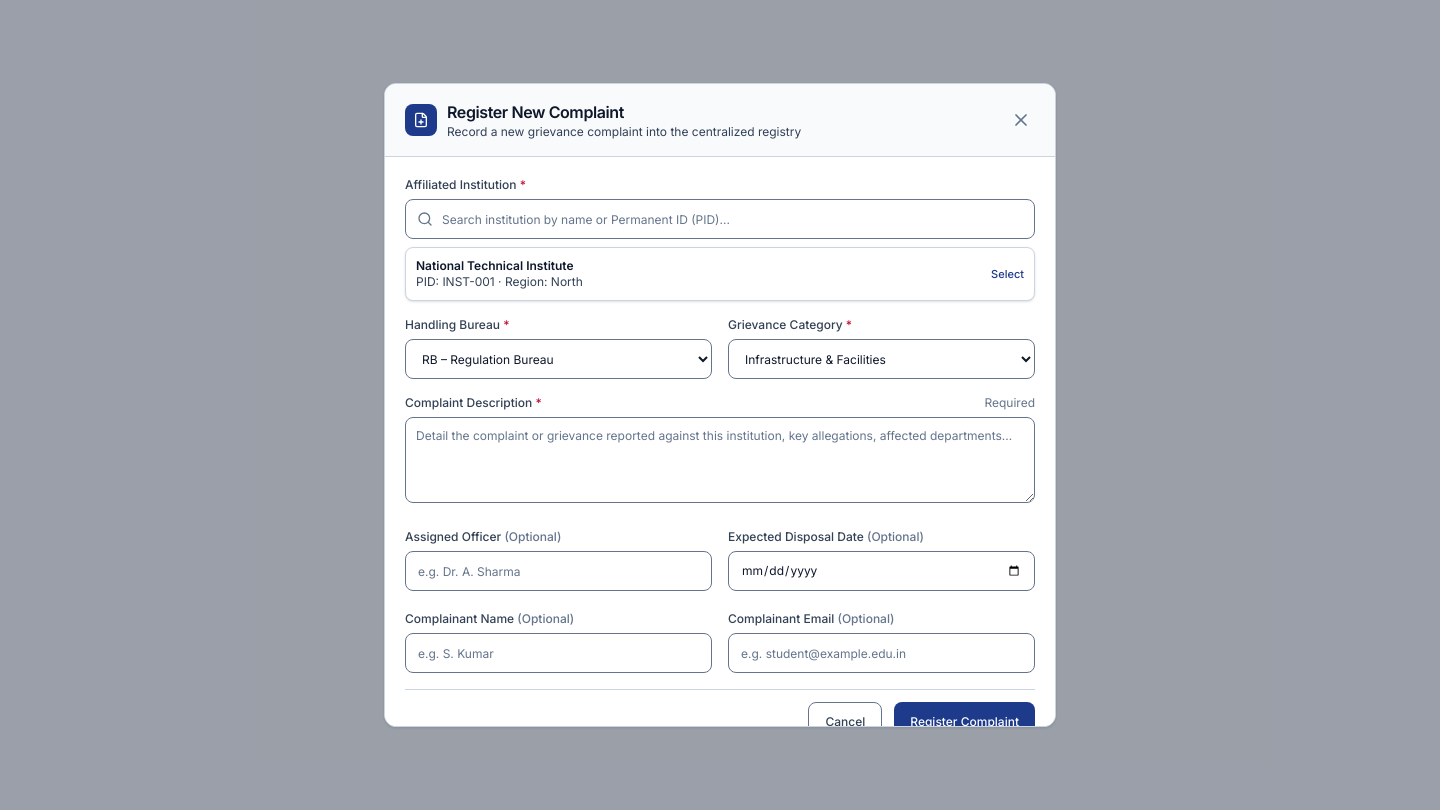
it: NewComplaintModal UX & Overlap Decoupling › 3b. Results-fetch failure keeps the saved confirmation intact
Click the text "National Technical Institute" at (499, 266), box left=416, top=258, right=583, bottom=274
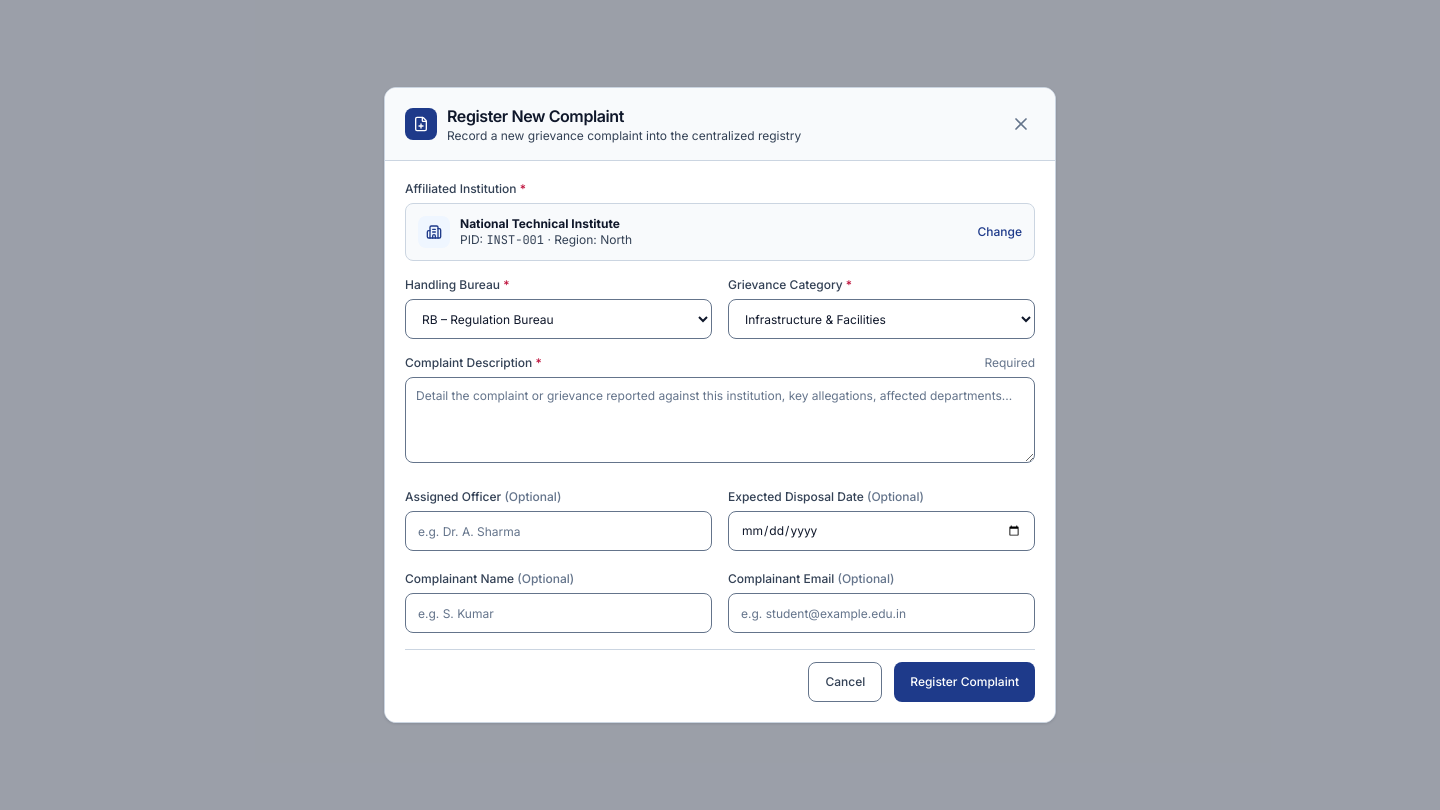
Replace the text in the text box labelled "Complaint Description *" with "Water leakage in main academic lab block" at (720, 420), box left=405, top=377, right=1035, bottom=463
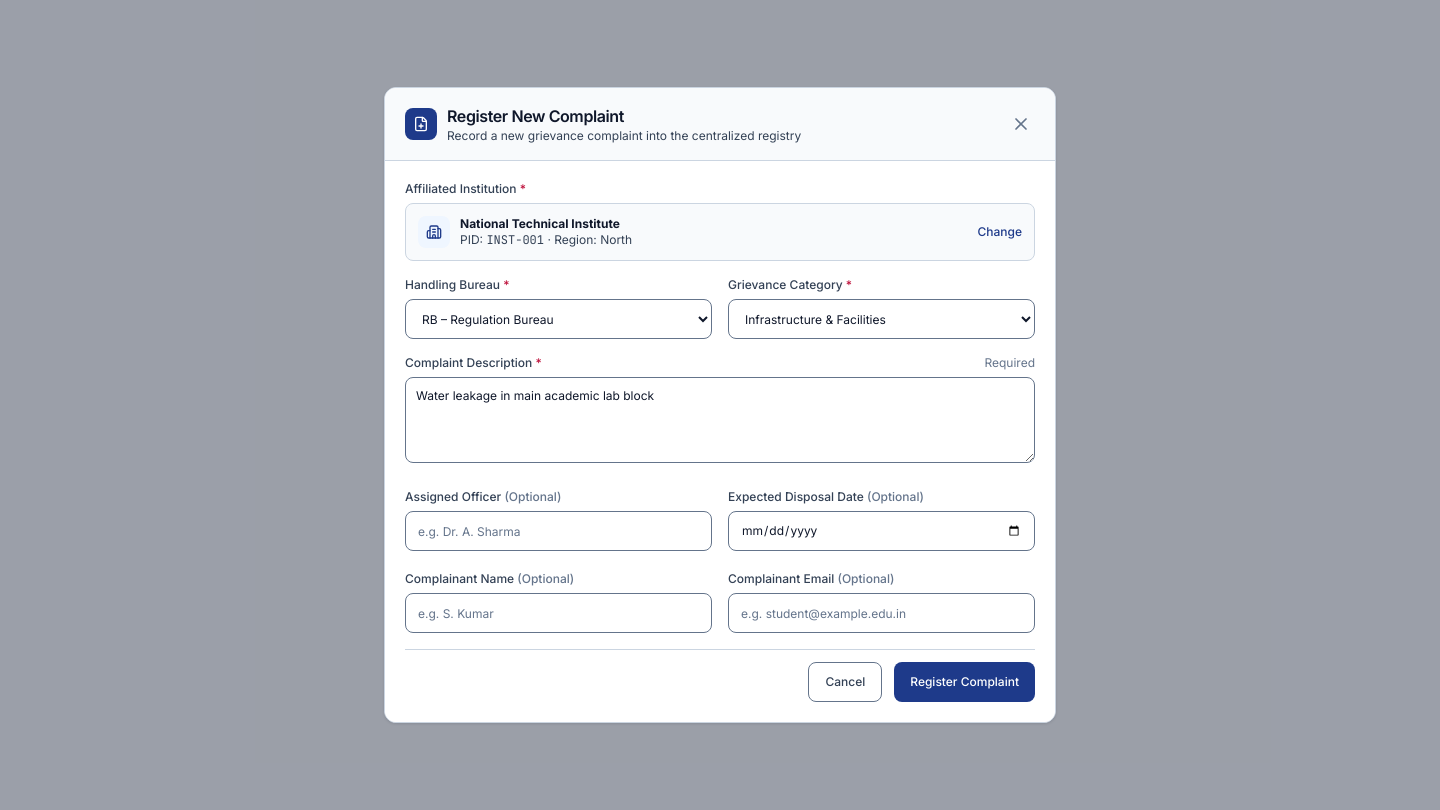
Click the button "Register Complaint" at (965, 682), box left=894, top=662, right=1035, bottom=702
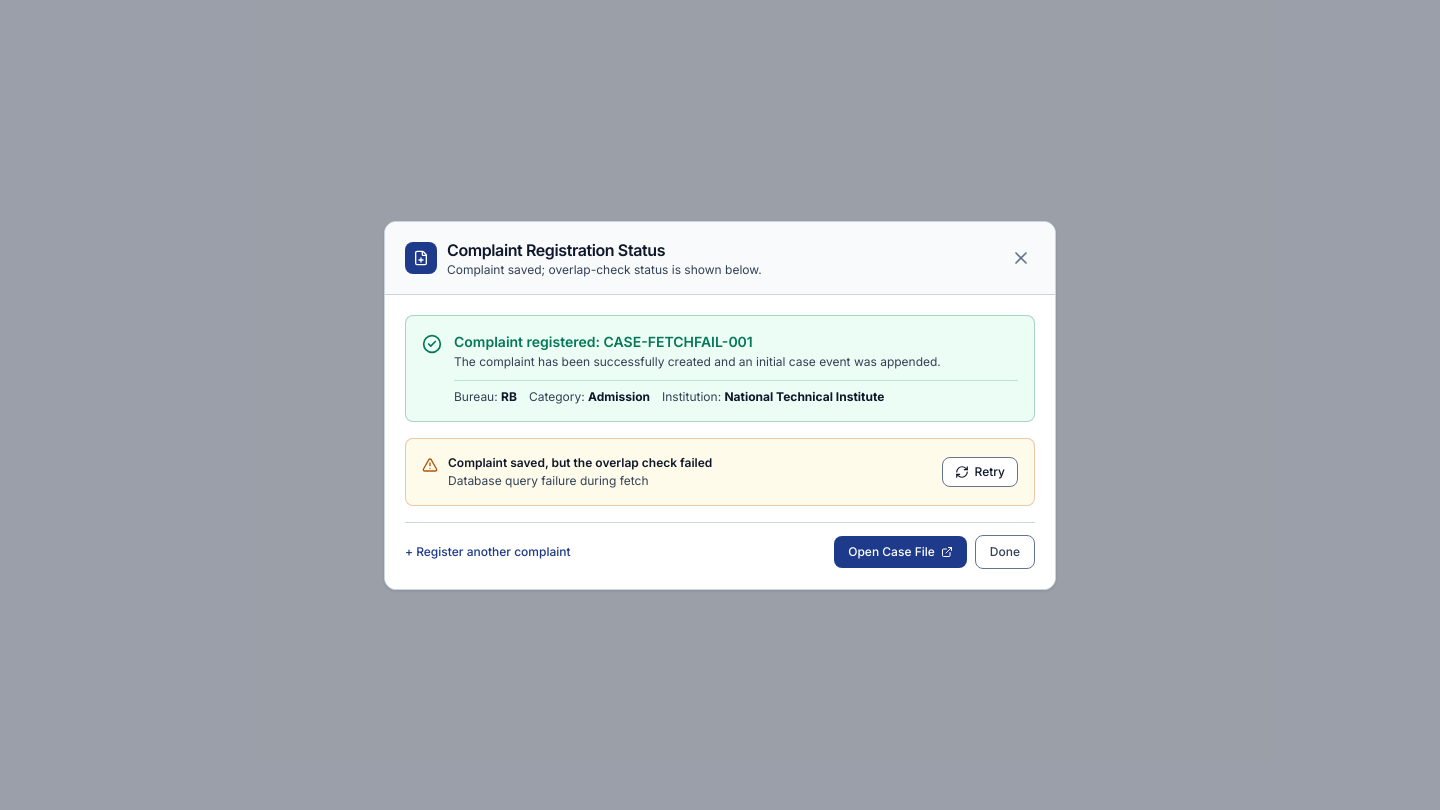
Check: the heading "Complaint registered: CASE-FETCHFAIL-001" is shown, box left=454, top=332, right=753, bottom=350
Check: the text "Complaint saved, but the overlap check failed" is shown, box left=448, top=454, right=712, bottom=470
Check: the text "Database query failure during fetch" is shown, box left=448, top=472, right=648, bottom=488
